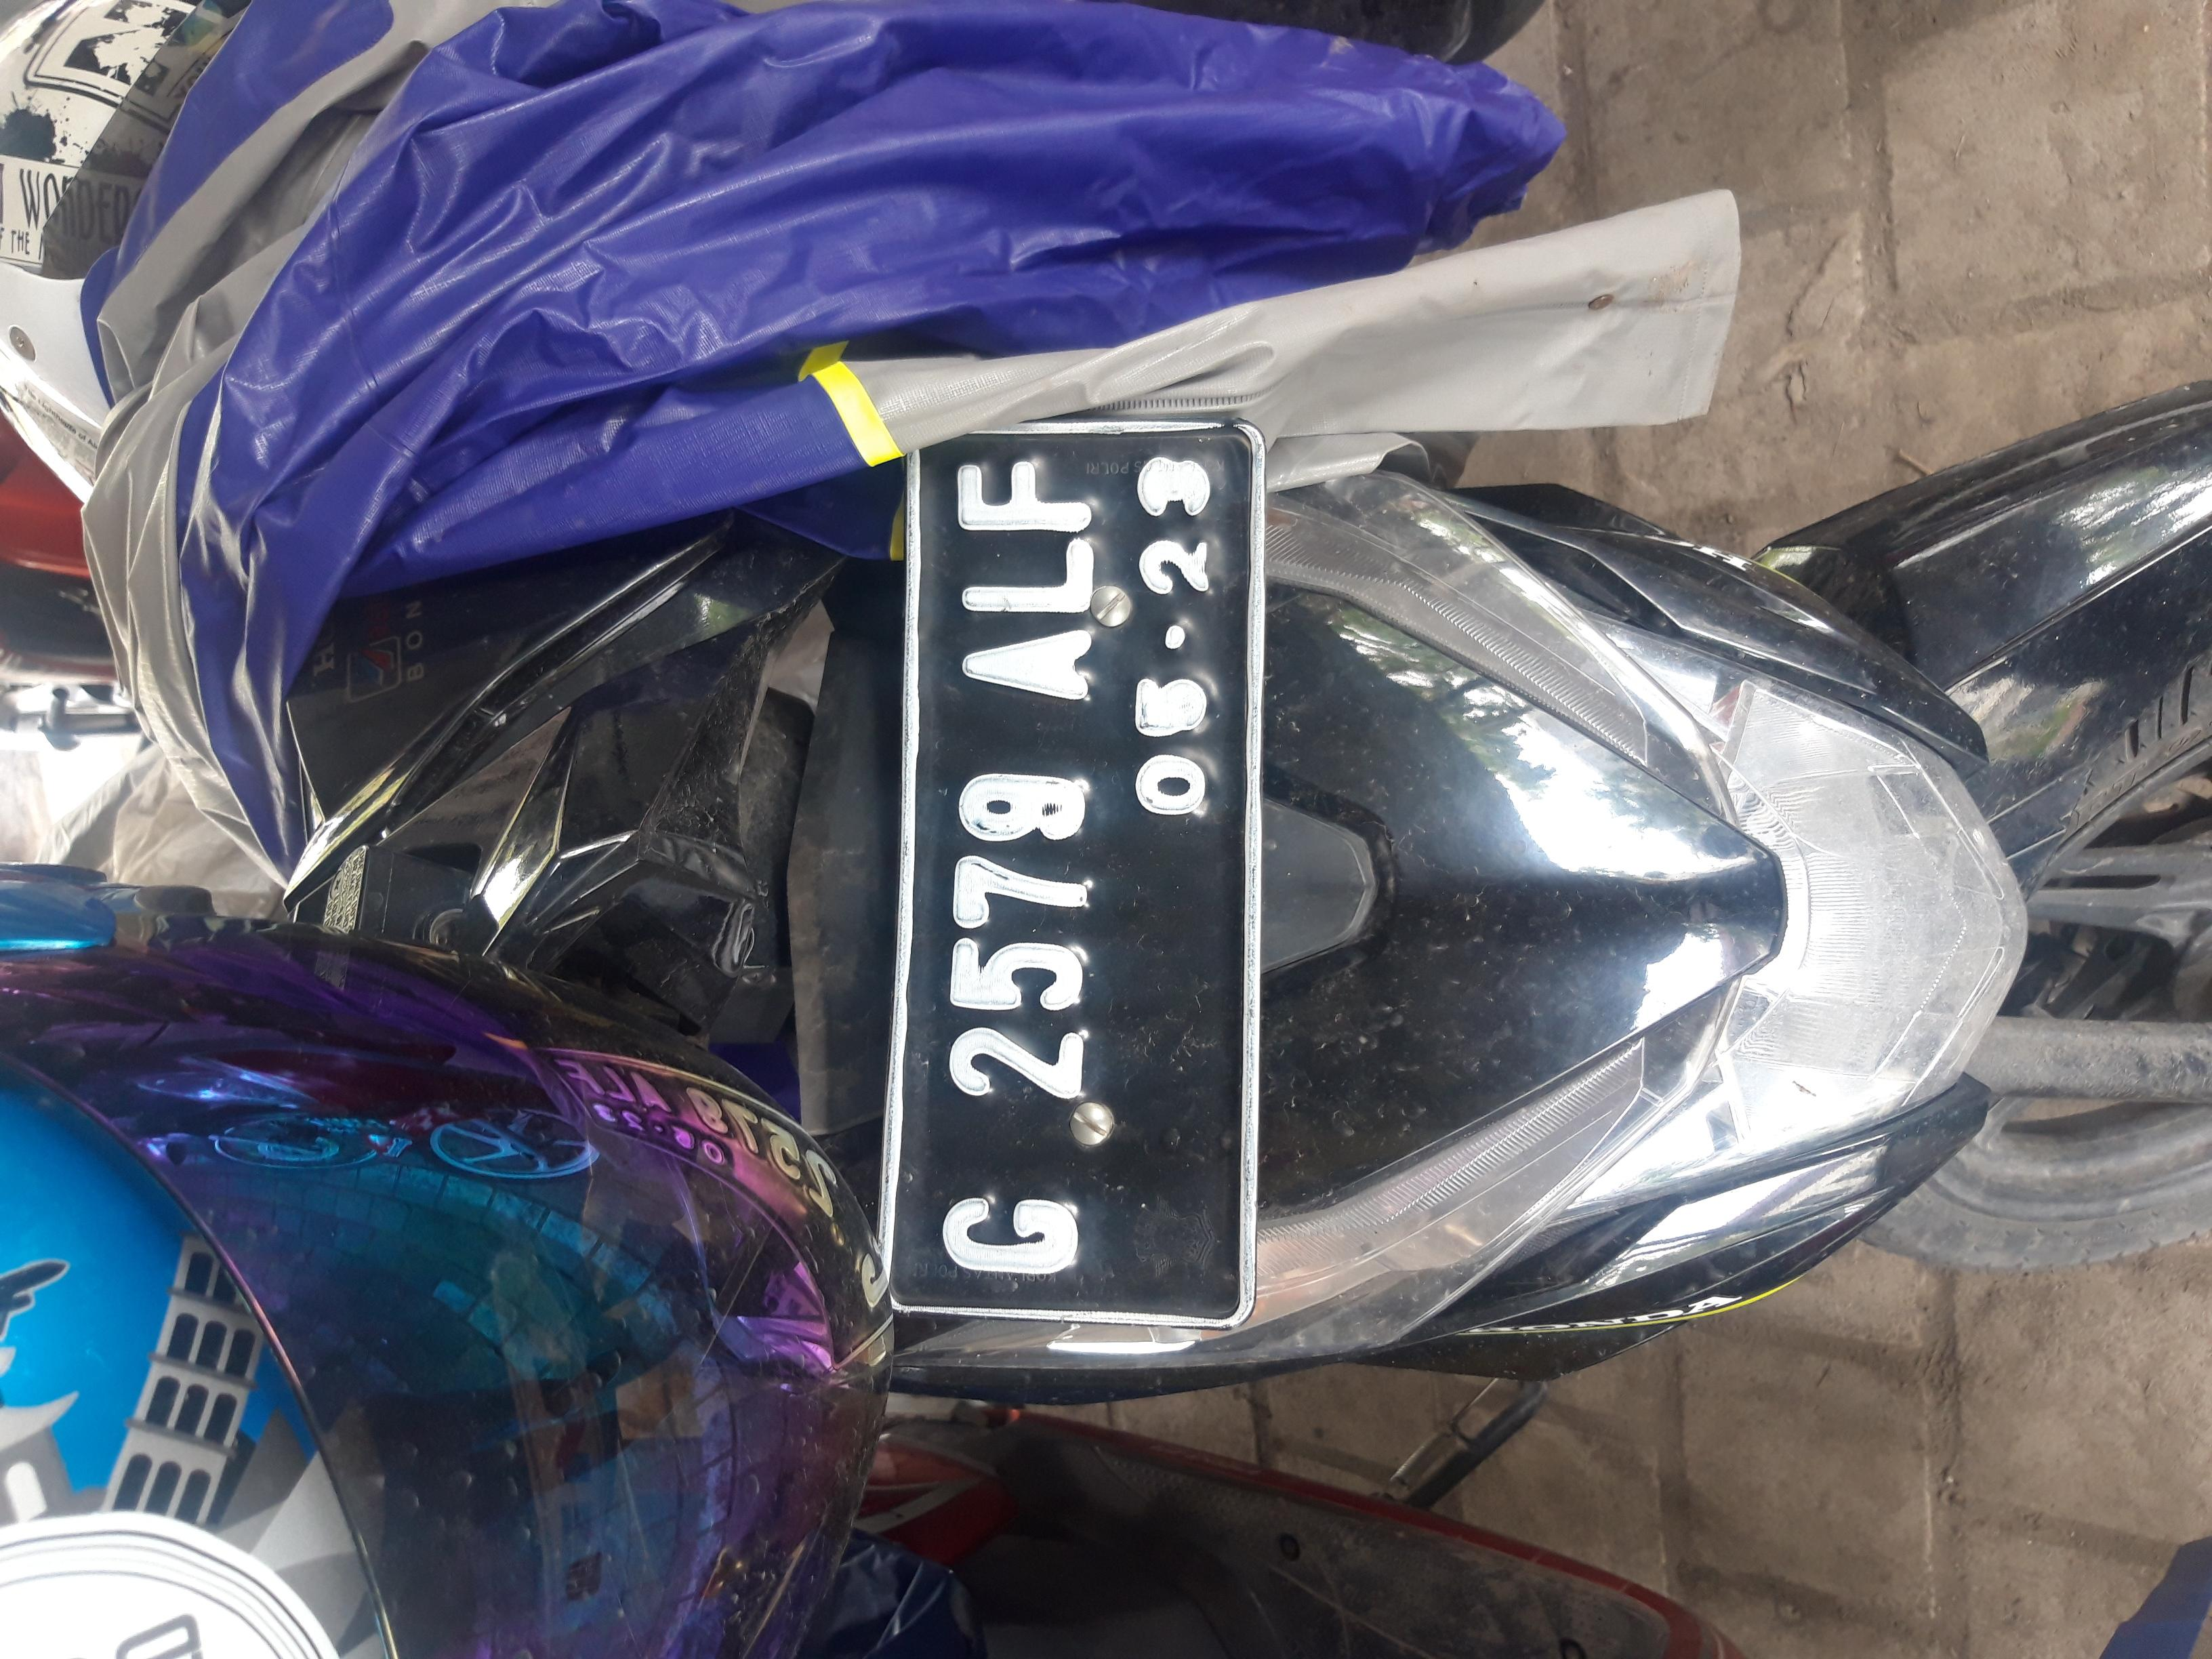plat: (443, 661, 1647, 949)
